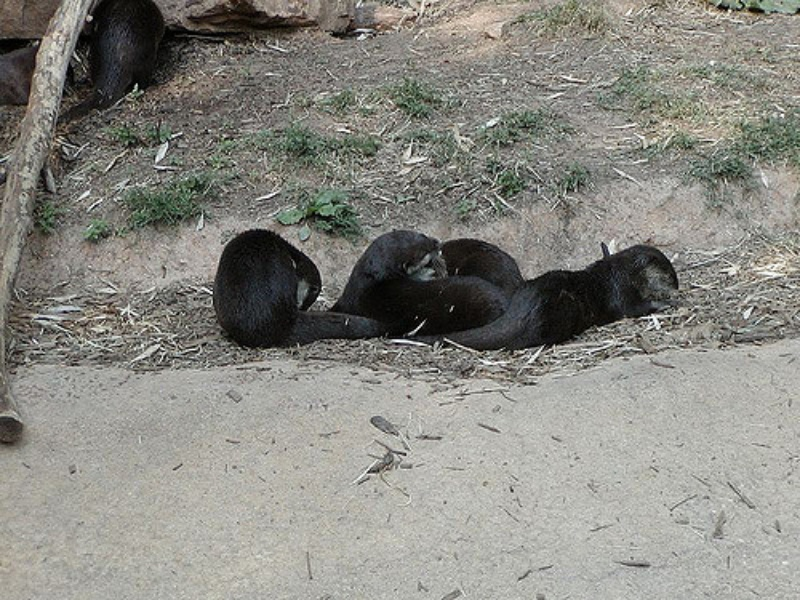minkish: (438, 243, 685, 360), (347, 227, 522, 336), (208, 223, 342, 351), (49, 1, 165, 103)
